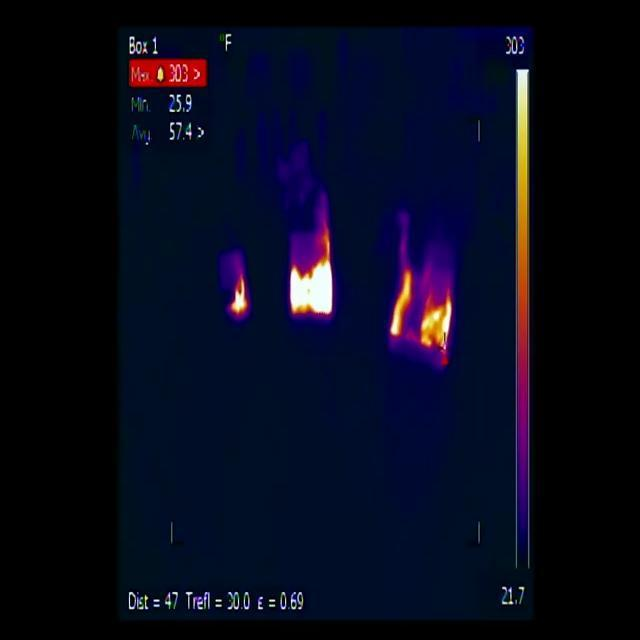fire: (389, 247, 457, 361), (291, 223, 335, 319), (230, 268, 250, 320)
